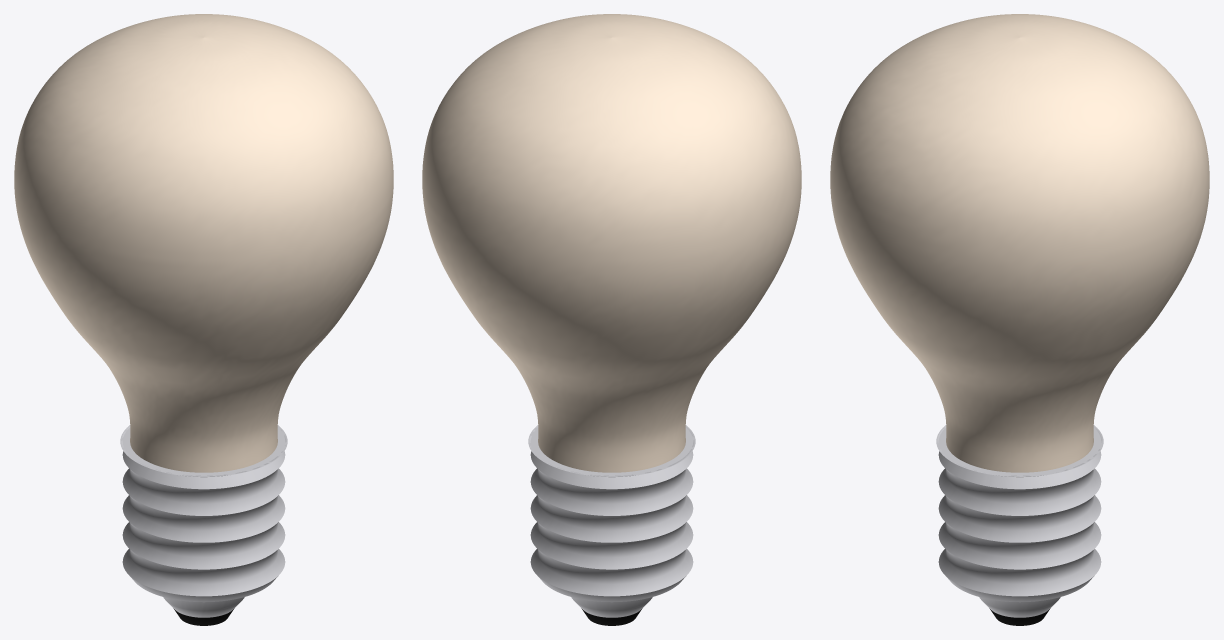
Rendered from bulb.glb.
3 renders of one model, left to right at view 1: azimuth 30°, elevation 25°; view 2: azimuth 150°, elevation 25°; view 3: azimuth 270°, elevation 25°, orthographic.
Parts seen in each view (by area): view 1: glass, base; view 2: glass, base; view 3: glass, base.
Boxes of the visible parts, bbox=[...] form: glass: bbox=[14, 14, 393, 472]; base: bbox=[120, 425, 287, 617]; glass: bbox=[422, 14, 801, 472]; base: bbox=[528, 425, 695, 617]; glass: bbox=[830, 14, 1209, 477]; base: bbox=[936, 425, 1103, 617].
Size of the model in its own units: 1.54 by 2.6 by 1.54.
